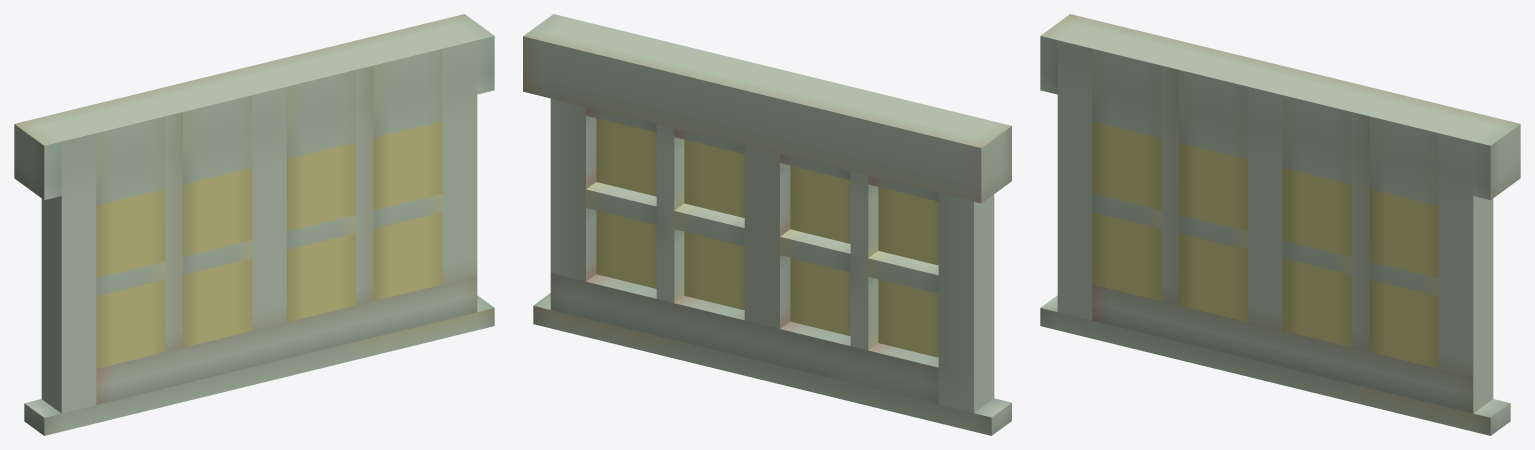
The model's file is WindowFrame4PaneOutside_B_01.fbx.
3 views of the same model, side by side, from view 1: azimuth 30°, elevation 25°; view 2: azimuth 150°, elevation 25°; view 3: azimuth 330°, elevation 25° (orthographic).
Parts seen in each view (by area): view 1: WindowFrame4PaneOutside_B_01; view 2: WindowFrame4PaneOutside_B_01; view 3: WindowFrame4PaneOutside_B_01.
Part boxes in pixels (box(x1,y1,x2,y2)): WindowFrame4PaneOutside_B_01: box(14, 14, 494, 435); WindowFrame4PaneOutside_B_01: box(523, 14, 1011, 435); WindowFrame4PaneOutside_B_01: box(1040, 14, 1520, 435).
Bounding box in the file's own units: 130 × 15 × 80.
Materials: 2 (2 with a texture image).
